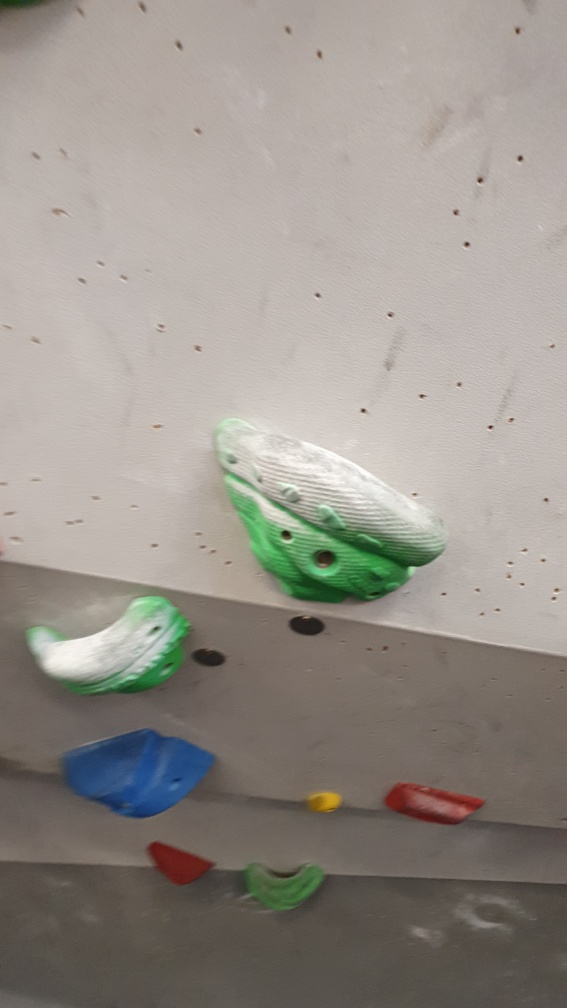Crimp: (377, 771, 488, 834)
Hand Start: (190, 638, 238, 674), (285, 609, 334, 643)
Jug: (205, 413, 450, 610), (19, 593, 195, 703), (240, 854, 330, 915)
Pinch: (56, 723, 219, 822)
